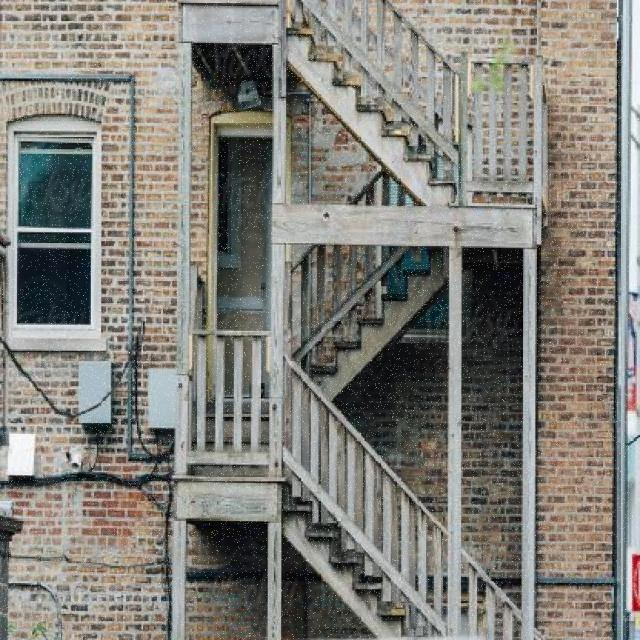stair: (170, 276, 594, 639), (236, 8, 529, 240)
